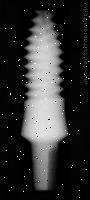OCO Biomedical: (12, 8, 72, 192)
